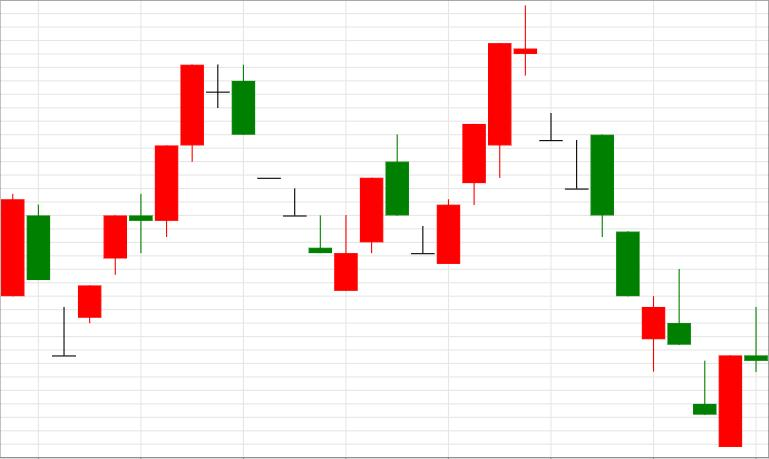bullish_engulfing_rise: (539, 112, 743, 448)
